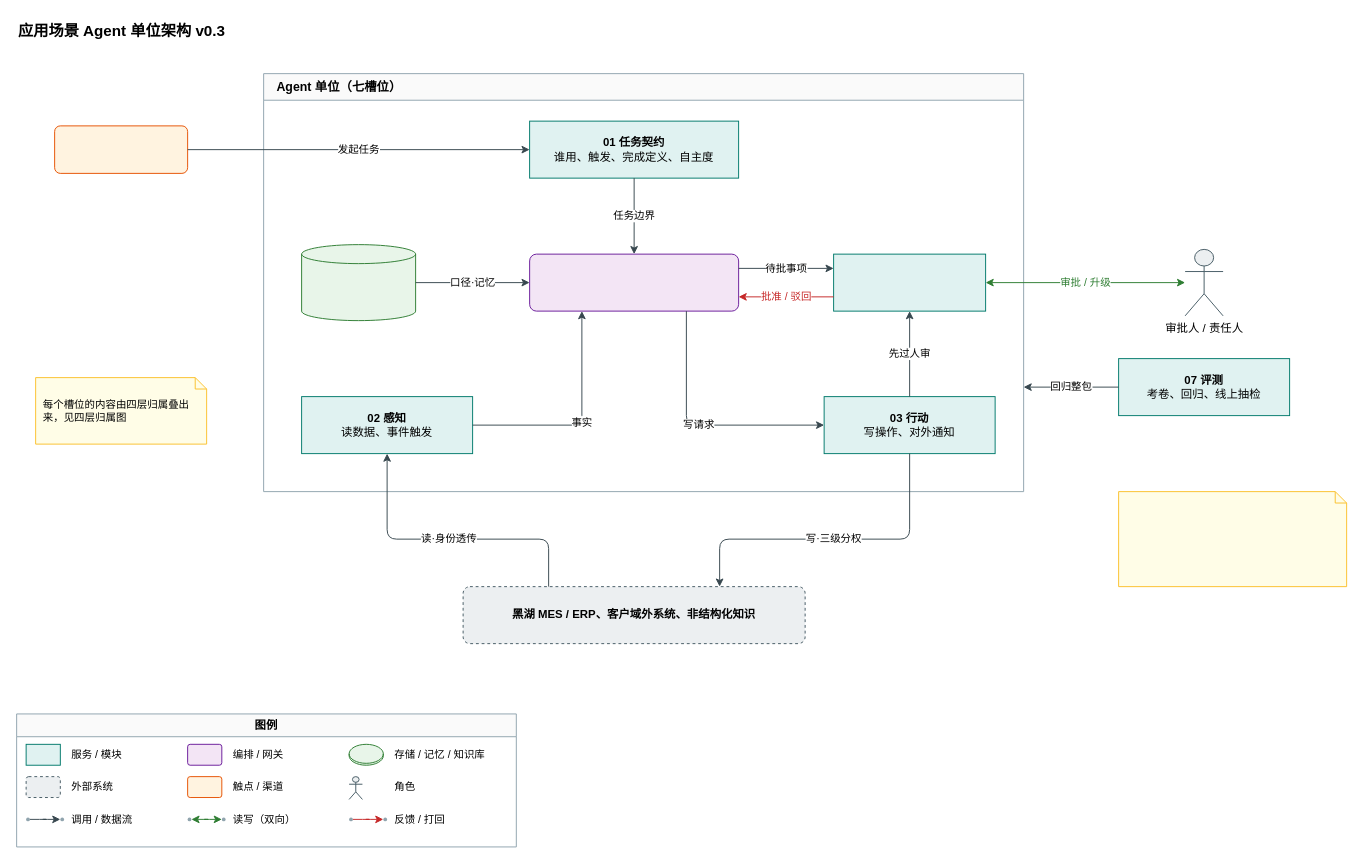
This 1363x864 diagram has some shape labels left out. The shapes that lost their labels are listed below. From the top down, each one's centre as x and y in pixels, then its label:
At pixel 121 149: "触发 人问 / 事件 / 定时".
At pixel 358 282: "06 上下文 口径、知识、记忆".
At pixel 634 282: "04 编排 SOP、工具选用、决策与异常分支".
At pixel 909 282: "05 人机交接 审批、升级、交还".
At pixel 1232 539: "待确认的三处关系 ① 编排是唯一枢纽 ② 写操作单独成路，不可撤销写先过人审 ③ 评测作用于整包".
